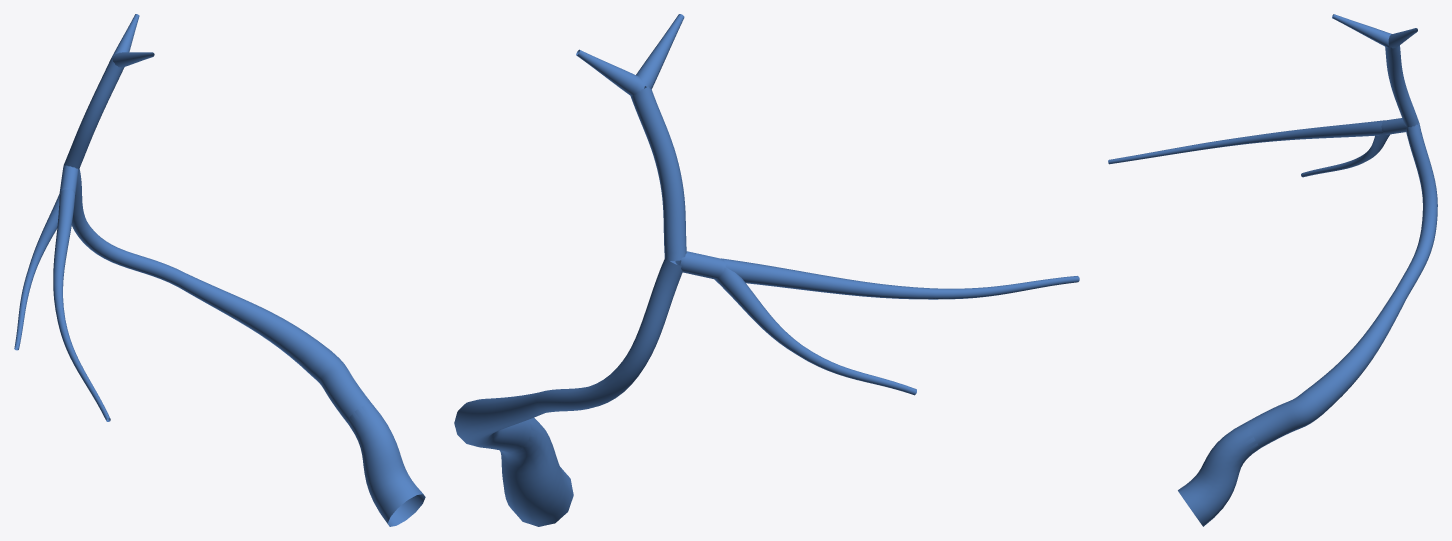
The picture shows the model from 3 angles, left to right: view 1: azimuth 30°, elevation 25°; view 2: azimuth 150°, elevation 25°; view 3: azimuth 270°, elevation 25°; orthographic projection. The views are drawn at different scales.
Visible parts, largest first — view 1: 右侧臀上静脉; view 2: 右侧臀上静脉; view 3: 右侧臀上静脉.
Part boxes in pixels (box(x1,y1,x2,y2)): 右侧臀上静脉: box(14, 14, 425, 526); 右侧臀上静脉: box(454, 14, 1079, 526); 右侧臀上静脉: box(1108, 14, 1437, 526).
Bounding box in the file's own units: 0.0771 × 0.0938 × 0.0651.
